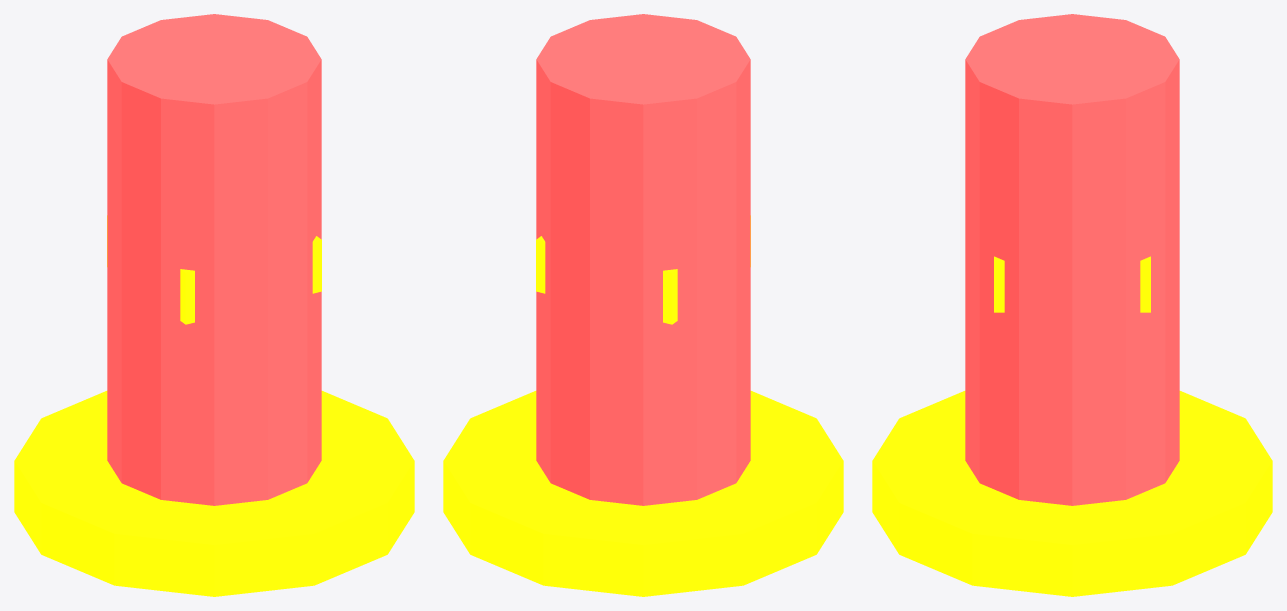
Rendered from PROP_TrafficCone_SM.glb.
The picture shows the model from 3 angles, left to right: view 1: azimuth 30°, elevation 25°; view 2: azimuth 150°, elevation 25°; view 3: azimuth 270°, elevation 25°; orthographic projection.
Parts seen in each view (by area): view 1: PROP_TrafficCone_SM; view 2: PROP_TrafficCone_SM; view 3: PROP_TrafficCone_SM.
Part boxes in pixels (bbox=[...]): PROP_TrafficCone_SM: bbox=[14, 14, 414, 596]; PROP_TrafficCone_SM: bbox=[443, 14, 843, 596]; PROP_TrafficCone_SM: bbox=[872, 14, 1272, 596].
Size of the model in its own units: 0.56 by 0.7 by 0.56.
